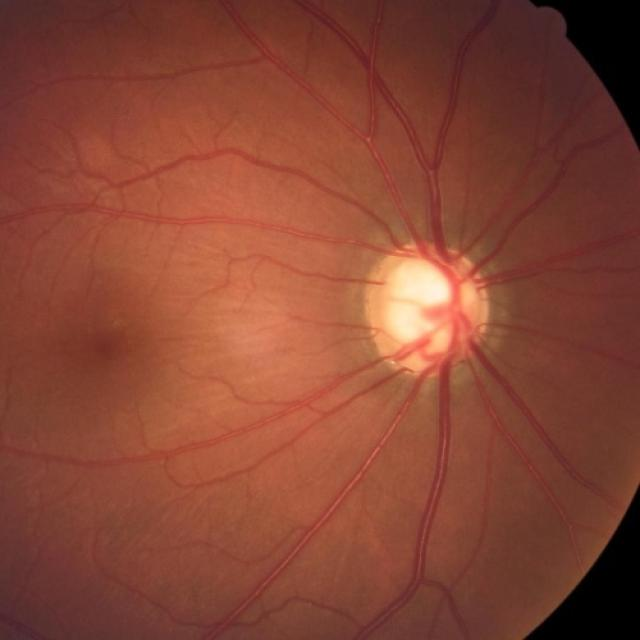OC: (388, 260, 471, 347)
OD: (364, 240, 492, 374)
